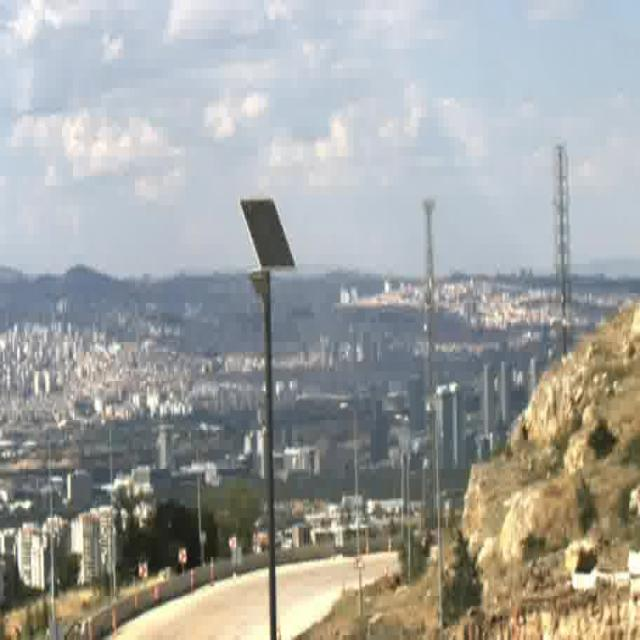Car: (420, 532, 438, 559)
